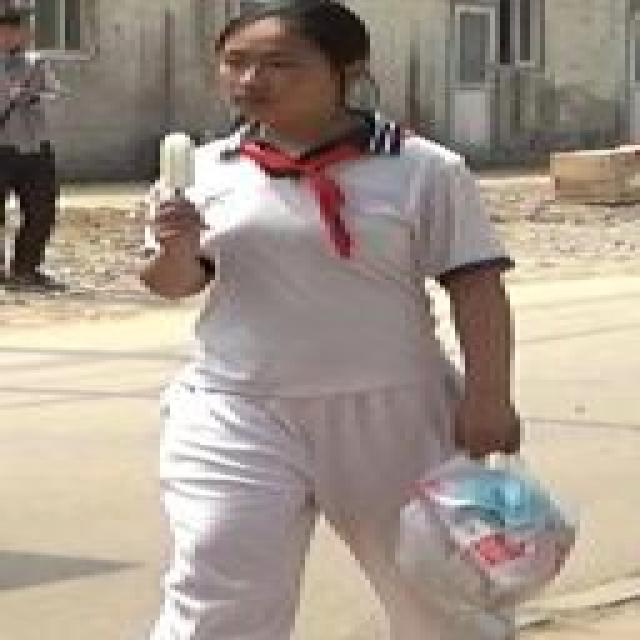adult: (128, 2, 506, 638)
